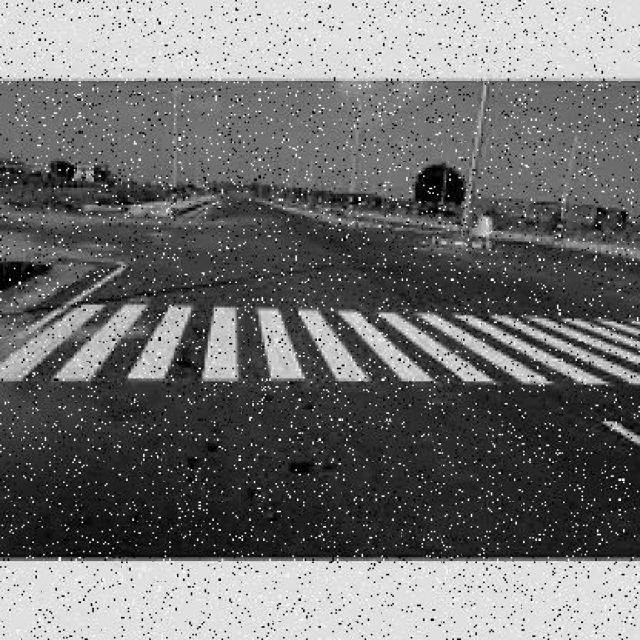intact_crosswalk: (0, 303, 639, 385)
